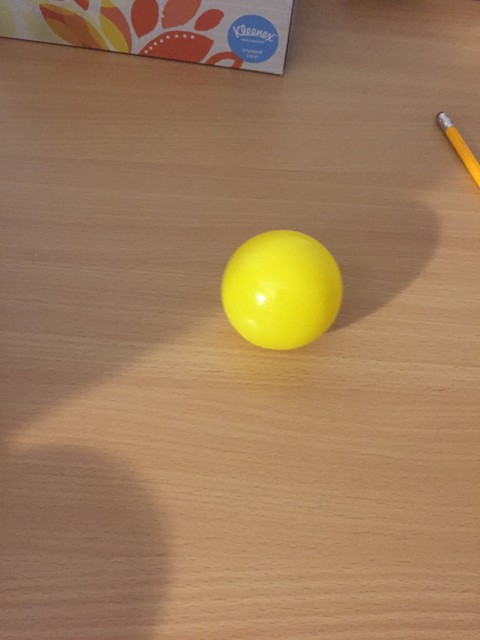ball: (218, 225, 344, 351)
